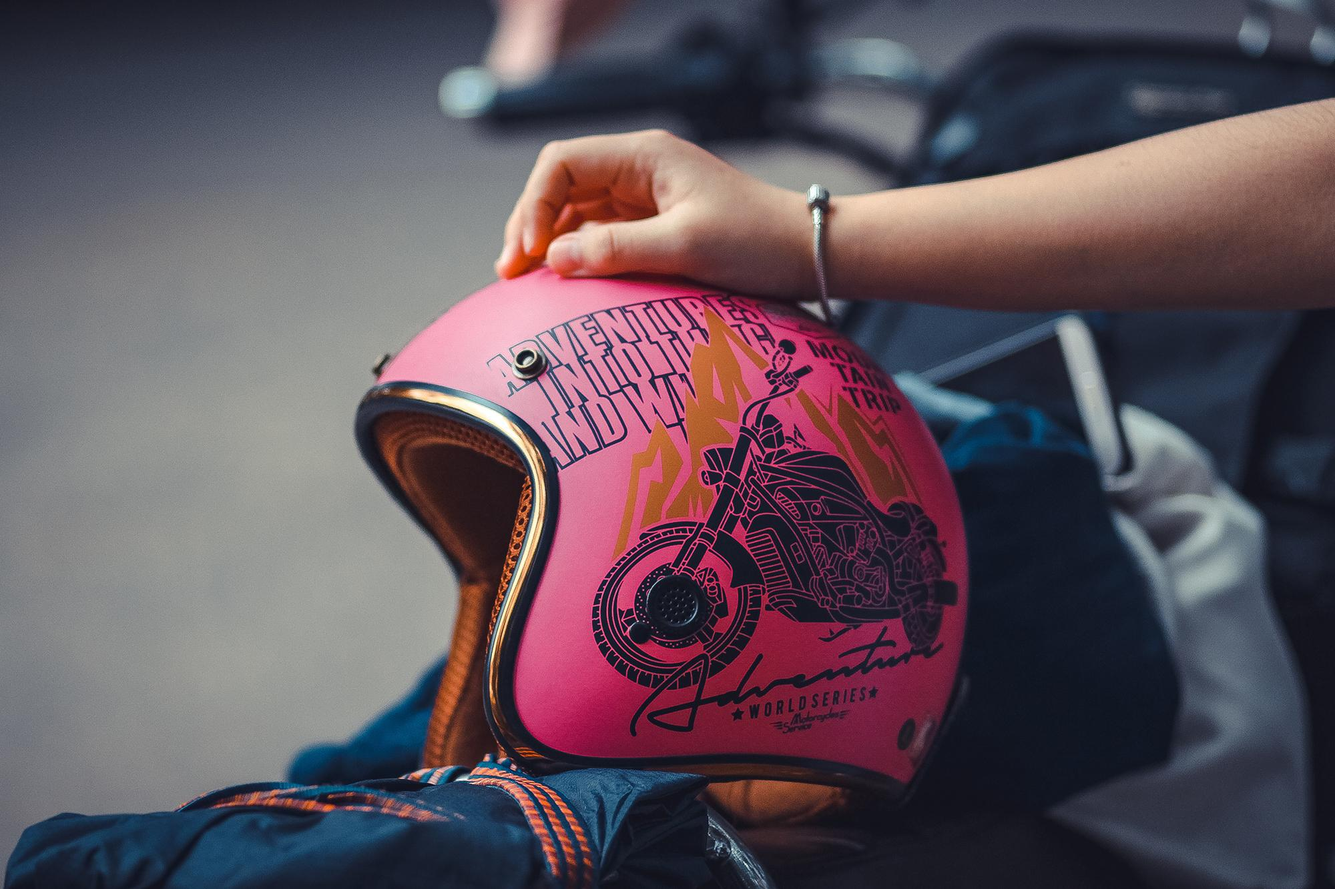helmet: (354, 244, 974, 813)
